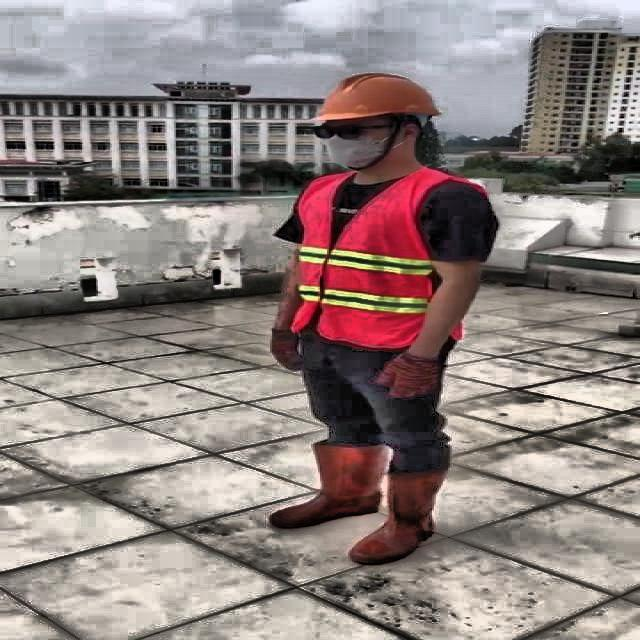safety_jacket: (296, 169, 466, 347)
